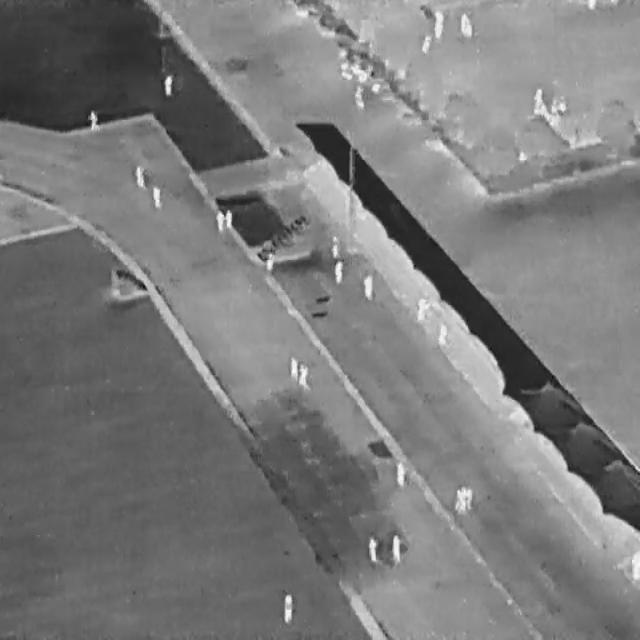DontCare: (340, 60, 381, 108), (363, 274, 372, 298), (333, 260, 342, 282)
Person: (413, 296, 430, 325), (453, 486, 467, 516), (329, 232, 340, 258), (433, 10, 443, 38), (283, 592, 292, 622), (631, 548, 639, 580), (87, 109, 99, 129), (533, 86, 543, 110), (367, 536, 376, 562), (466, 481, 473, 514), (438, 322, 447, 347), (421, 32, 431, 54), (214, 209, 224, 230), (391, 534, 399, 560), (396, 460, 404, 485), (134, 165, 143, 186), (298, 364, 307, 385), (289, 356, 297, 379), (164, 74, 172, 96), (152, 186, 160, 208), (265, 251, 273, 270), (459, 12, 466, 32), (225, 208, 231, 228), (464, 22, 471, 36), (586, 0, 595, 9)
